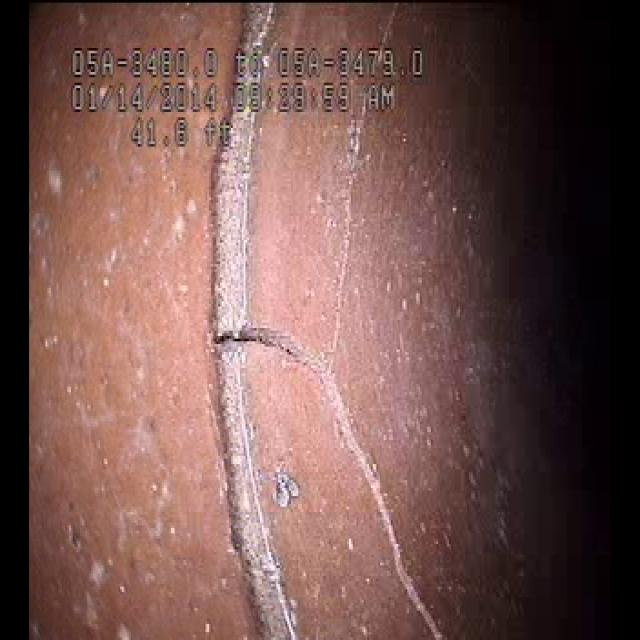Crack: (247, 180, 417, 608)
